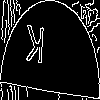K: (25, 25, 45, 74)
